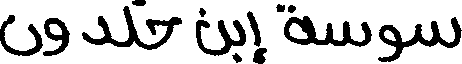أ: (247, 8, 268, 61)
ب: (232, 17, 243, 62)
ة: (275, 2, 315, 44)
خ: (133, 0, 182, 50)
د: (80, 14, 109, 46)
س: (415, 15, 460, 49), (324, 19, 371, 48)
ل: (123, 5, 138, 47)
ن: (0, 13, 43, 57), (195, 6, 230, 57)
و: (42, 15, 67, 56), (377, 23, 402, 63)
